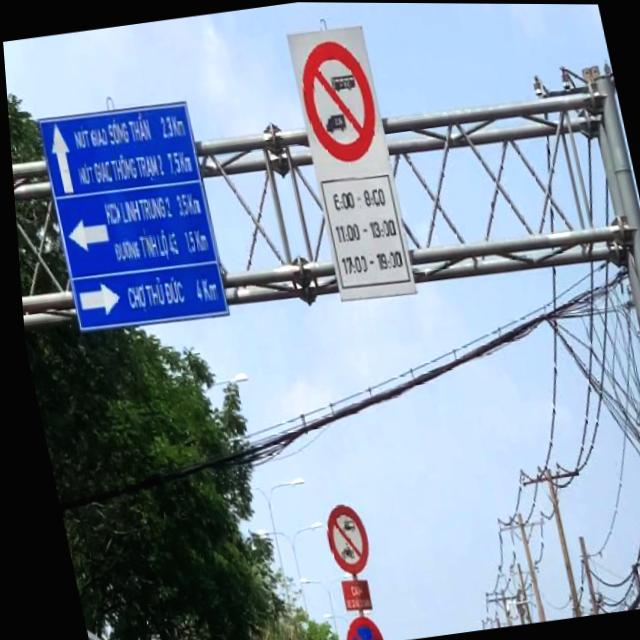Cam dung xe va do xe: (330, 613, 375, 640)
